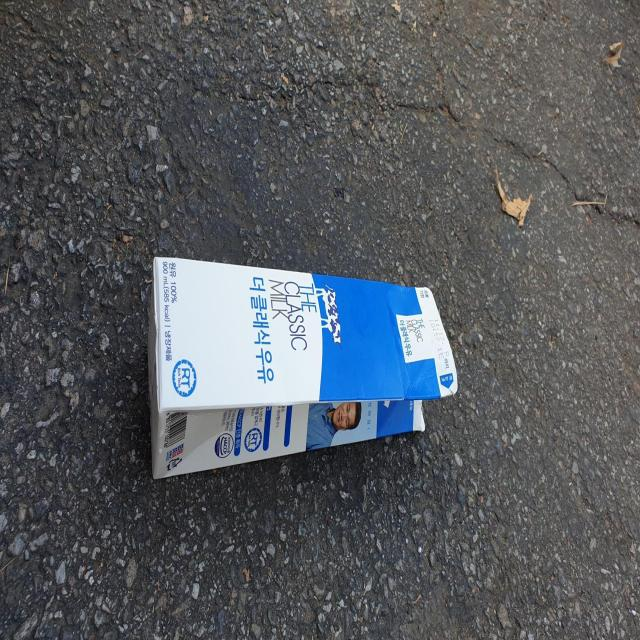paperpack: (148, 257, 458, 479)
